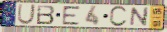4: (84, 4, 101, 28)
B: (35, 4, 56, 25)
C: (108, 5, 129, 28)
E: (61, 5, 81, 26)
N: (128, 7, 150, 28)
U: (16, 4, 37, 26)
